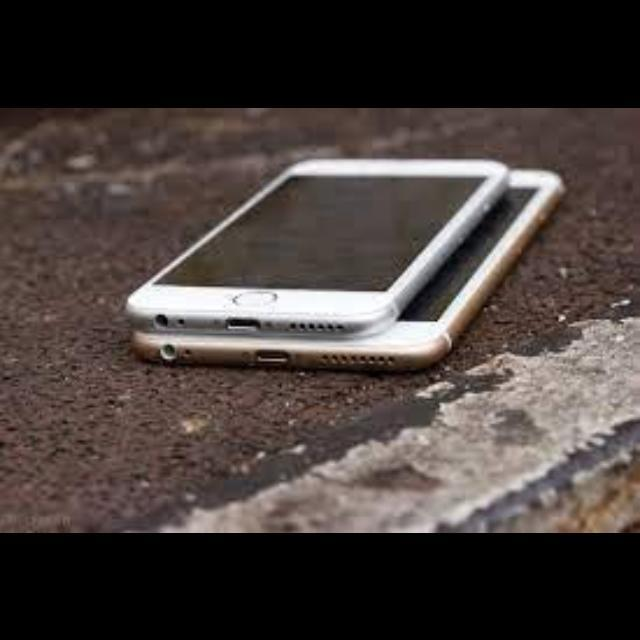Phone: (125, 155, 509, 329)
